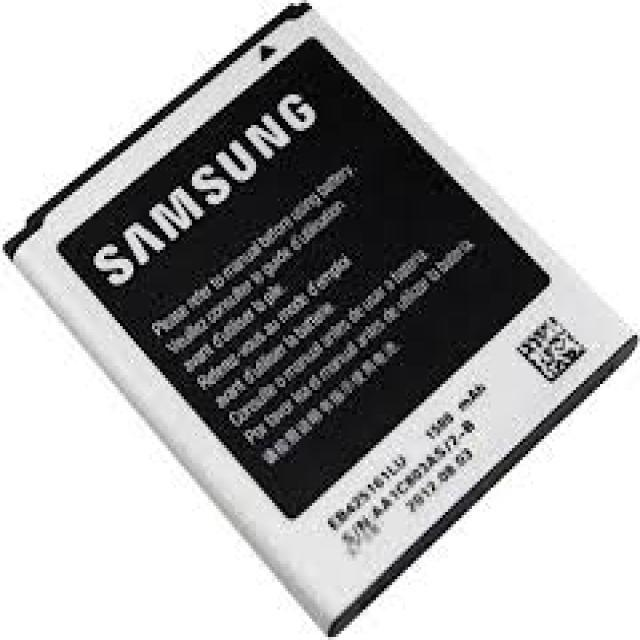Battery: (0, 0, 639, 632)
